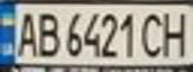1: (118, 9, 142, 58)
2: (100, 9, 121, 60)
4: (81, 8, 103, 59)
6: (60, 8, 84, 59)
A: (12, 7, 39, 57)
B: (33, 8, 60, 59)
C: (139, 8, 169, 60)
H: (157, 7, 193, 58)
